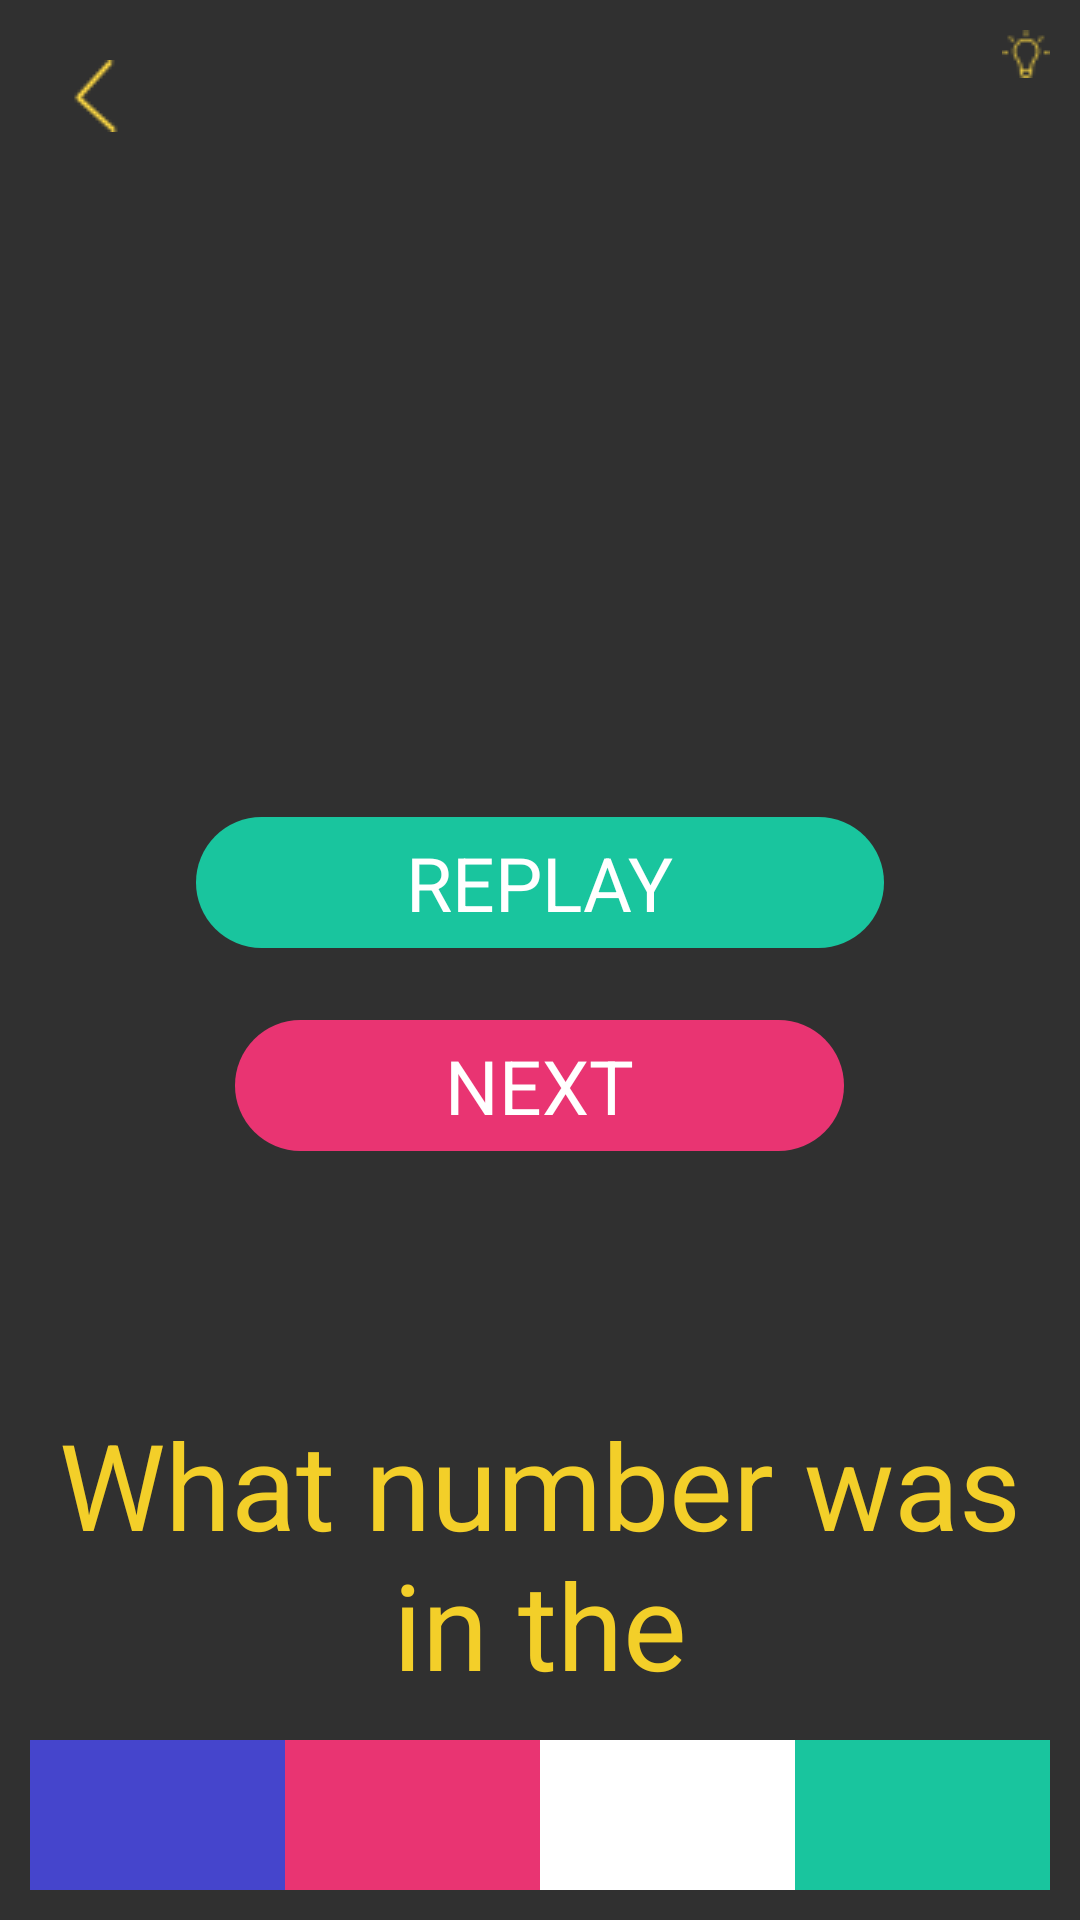

Icon bounding boxes for this 1080 x 1920 phone screenshot, format (x1, y1, x2, y2):
arrow: (74, 60, 117, 132)
lightbulb: (1002, 30, 1050, 78)
